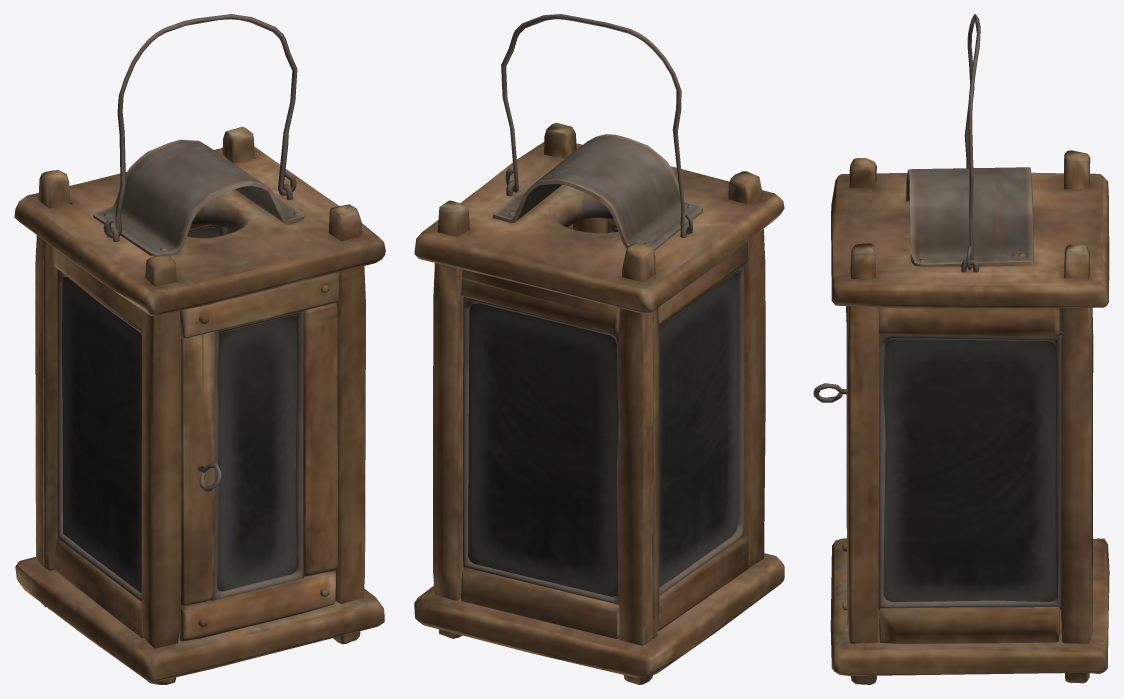
Rendered from lantern_wood.glb.
3 renders of one model, left to right at view 1: azimuth 30°, elevation 25°; view 2: azimuth 150°, elevation 25°; view 3: azimuth 270°, elevation 25°, orthographic.
Parts seen in each view (by area): view 1: wooden_lantern_01, wooden_lantern_01_door, wooden_lantern_01_handle; view 2: wooden_lantern_01, wooden_lantern_01_handle, wooden_lantern_01_door; view 3: wooden_lantern_01, wooden_lantern_01_handle, wooden_lantern_01_door.
Boxes of the visible parts, <box> form: wooden_lantern_01: <box>14,126,385,684</box>; wooden_lantern_01_door: <box>178,272,339,641</box>; wooden_lantern_01_handle: <box>103,14,297,238</box>; wooden_lantern_01: <box>414,122,784,684</box>; wooden_lantern_01_handle: <box>501,14,693,234</box>; wooden_lantern_01_door: <box>573,218,618,233</box>; wooden_lantern_01: <box>830,150,1109,684</box>; wooden_lantern_01_handle: <box>964,14,980,270</box>; wooden_lantern_01_door: <box>813,306,848,624</box>.
Size of the model in its own units: 0.221 by 0.5301 by 0.2347.
Materials: 2 (2 with a texture image).
